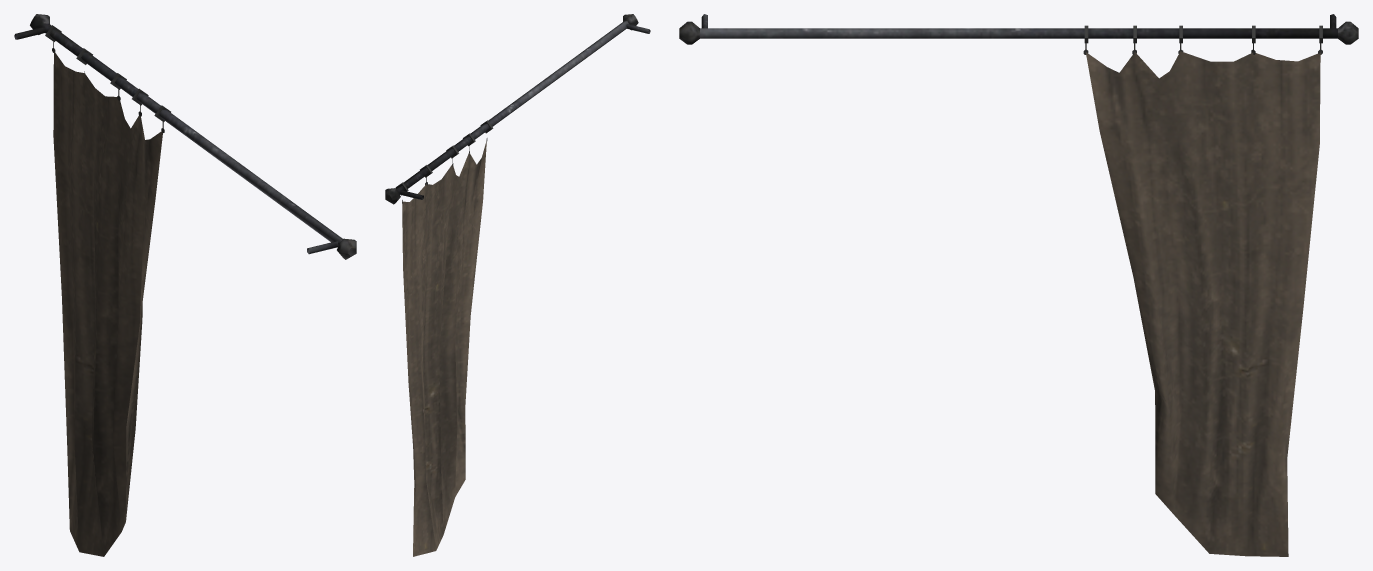
The model's file is Double_CheapCurtainSet_T01.FBX.
The picture shows the model from 3 angles, left to right: view 1: azimuth 30°, elevation 25°; view 2: azimuth 150°, elevation 25°; view 3: azimuth 270°, elevation 25°; orthographic projection. The views are drawn at different scales.
Visible parts, largest first — view 1: Double_CheapCurtainSet_T01; view 2: Double_CheapCurtainSet_T01; view 3: Double_CheapCurtainSet_T01.
Boxes of the visible parts, x1,y1,x2,y2 form: Double_CheapCurtainSet_T01: (14, 14, 356, 556); Double_CheapCurtainSet_T01: (385, 14, 650, 556); Double_CheapCurtainSet_T01: (679, 14, 1358, 556).
Bounding box in the file's own units: 18.22 × 199 × 228.
